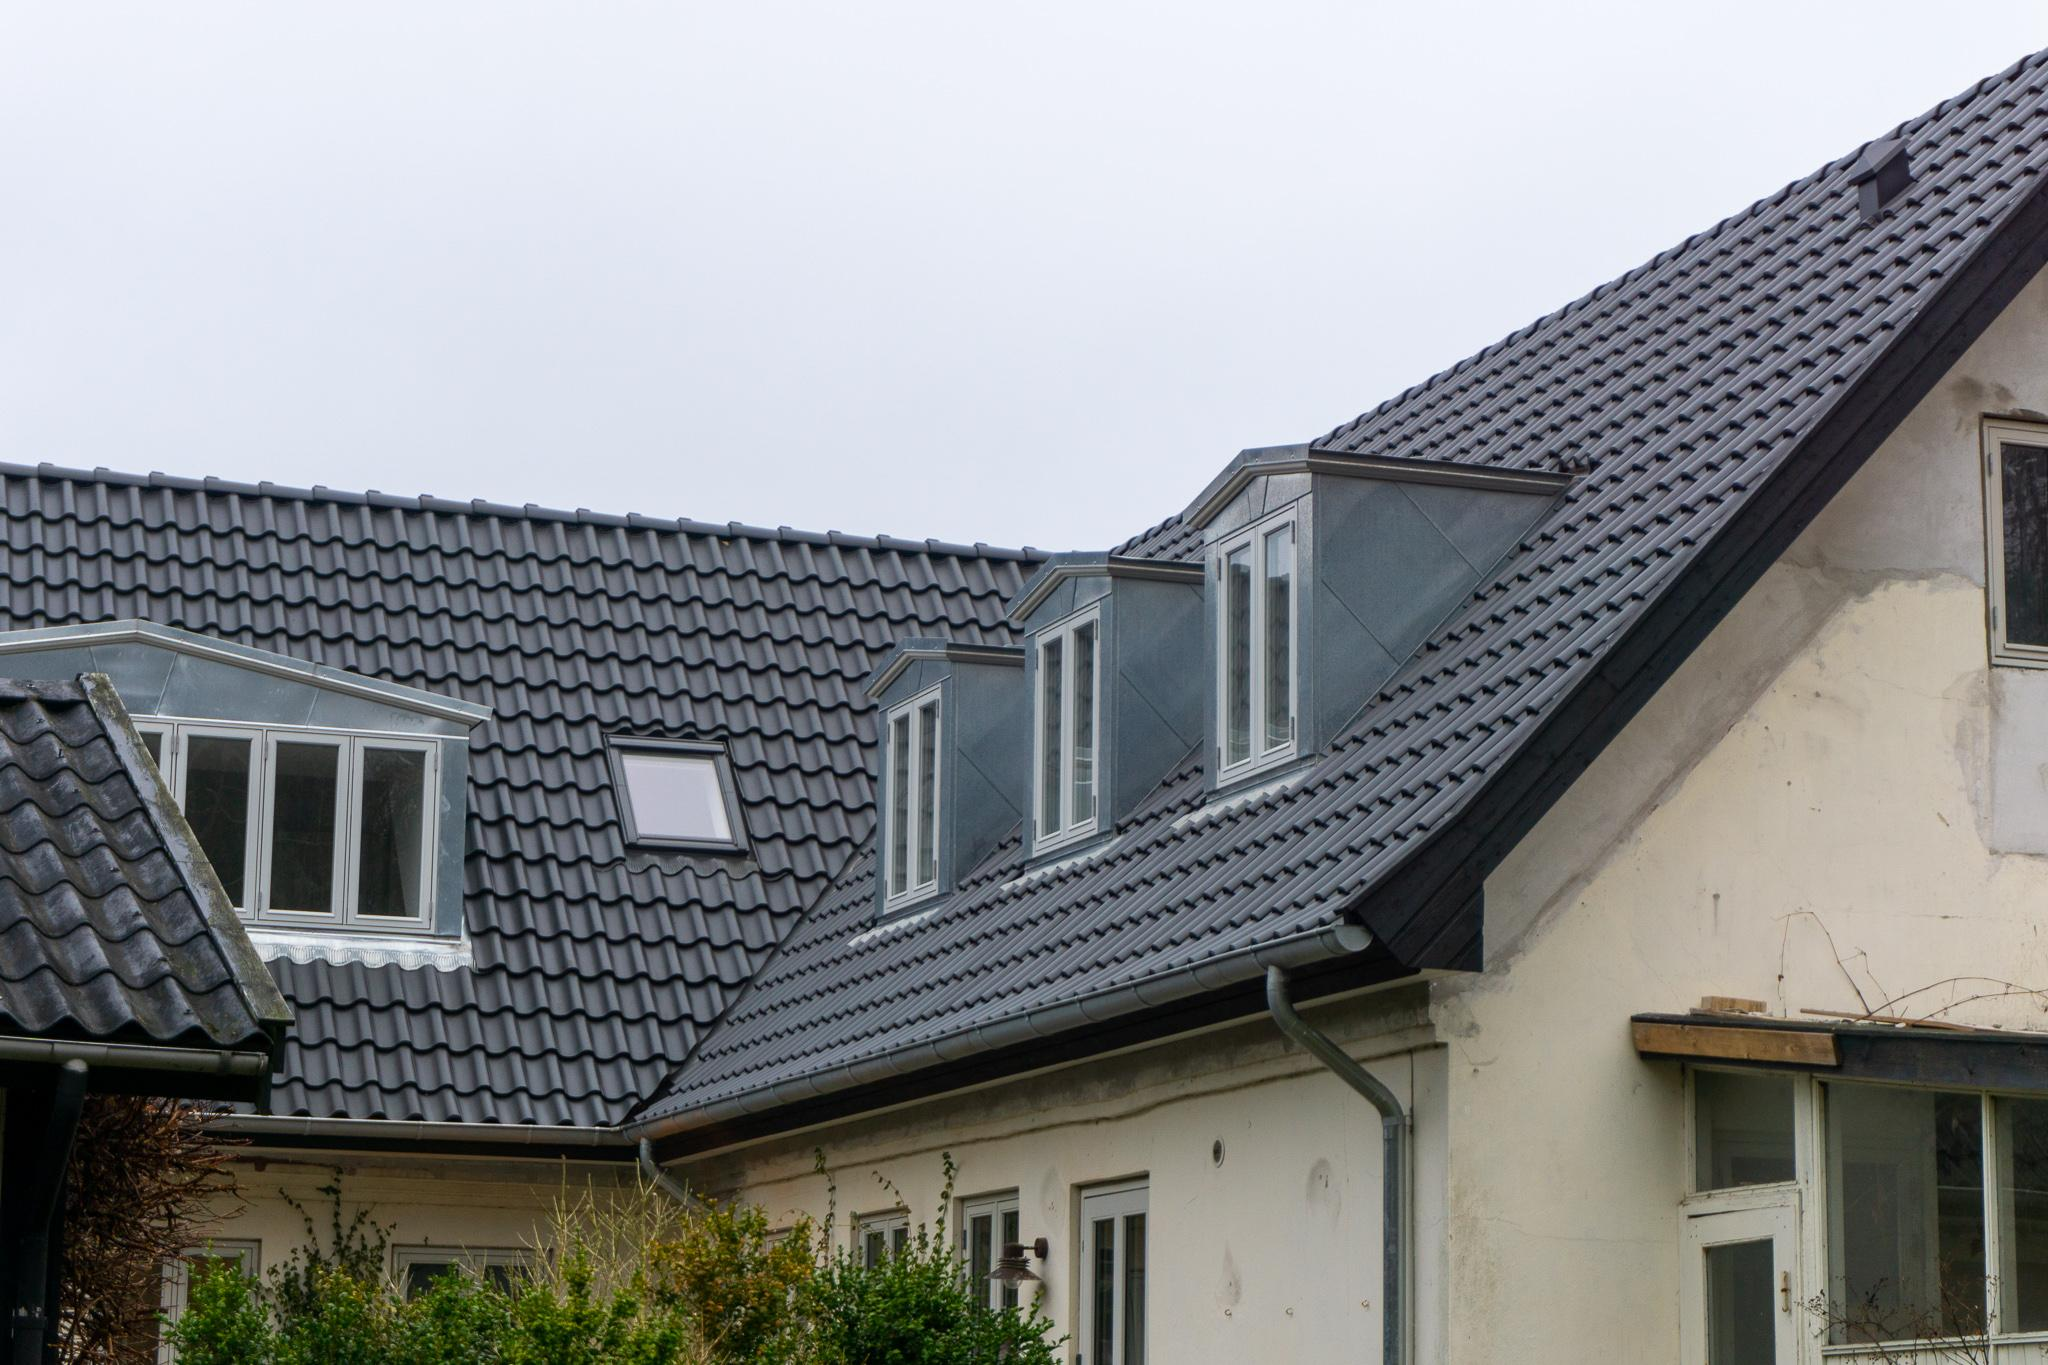kvist windows: (868, 448, 1568, 920)
